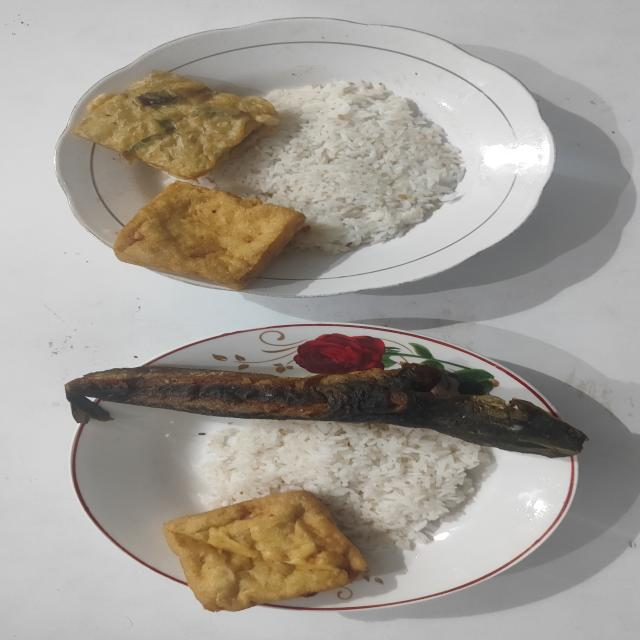nasi_putih: (207, 80, 465, 254), (200, 422, 494, 550)
tahu_goreng: (164, 490, 366, 610), (113, 181, 305, 290)
